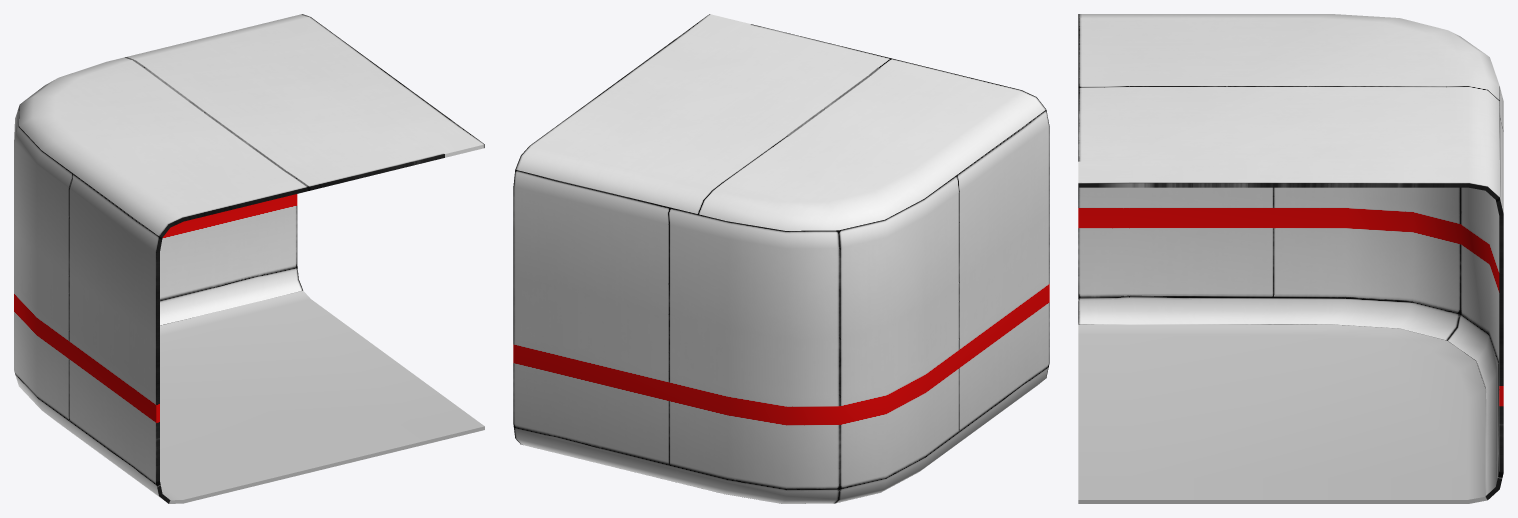
The model's file is RoomCorner_001.FBX.
The picture shows the model from 3 angles, left to right: view 1: azimuth 30°, elevation 25°; view 2: azimuth 150°, elevation 25°; view 3: azimuth 270°, elevation 25°; orthographic projection. The views are drawn at different scales.
Visible parts, largest first — view 1: RoomCorner_001; view 2: RoomCorner_001; view 3: RoomCorner_001.
Boxes of the visible parts, x1,y1,x2,y2 form: RoomCorner_001: [14, 14, 484, 503]; RoomCorner_001: [513, 14, 1049, 503]; RoomCorner_001: [1078, 14, 1503, 503].
Size of the model in its own units: 2.78 by 2.31 by 2.78.
